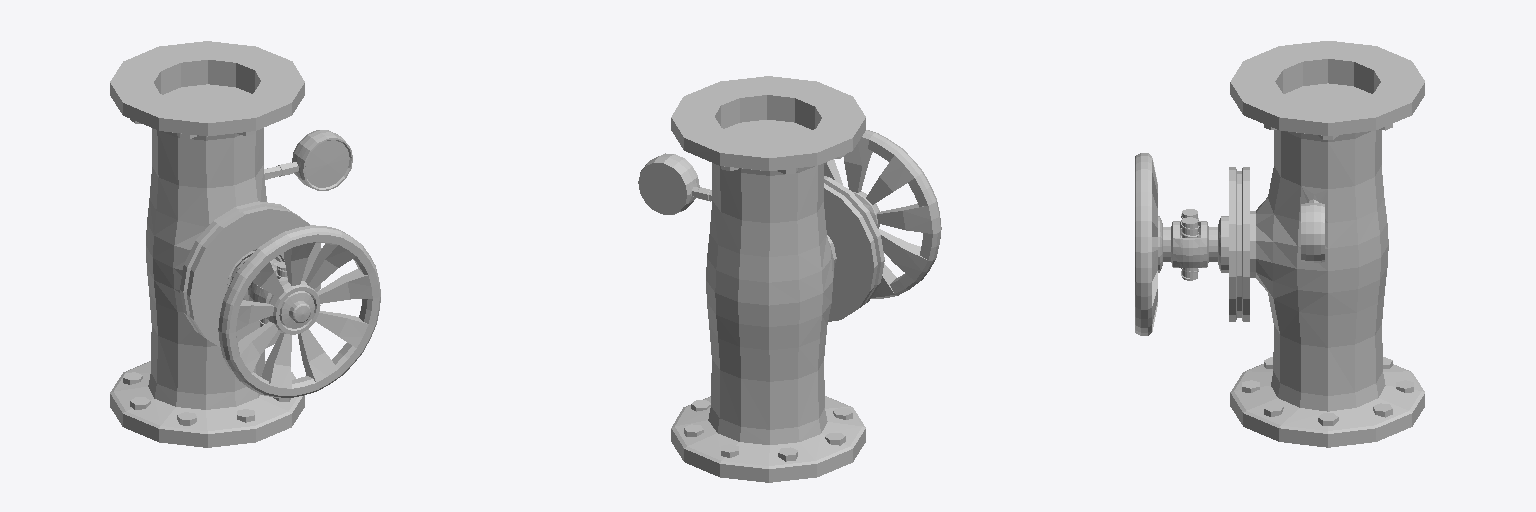
Rendered from modular_industrial_pipes_01-08.obj.
3 views of the same model, side by side, from view 1: azimuth 30°, elevation 25°; view 2: azimuth 150°, elevation 25°; view 3: azimuth 270°, elevation 25° (orthographic).
Parts seen in each view (by area): view 1: modular_industrial_pipes_01_pipe08; view 2: modular_industrial_pipes_01_pipe08; view 3: modular_industrial_pipes_01_pipe08.
Boxes of the visible parts, box(x1,y1,x2,y2) form: modular_industrial_pipes_01_pipe08: box(110, 41, 380, 447); modular_industrial_pipes_01_pipe08: box(638, 76, 941, 482); modular_industrial_pipes_01_pipe08: box(1135, 41, 1424, 447).
Size of the model in its own units: 0.2663 by 0.3788 by 0.3076.